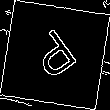P_SE: (25, 24, 85, 86)
